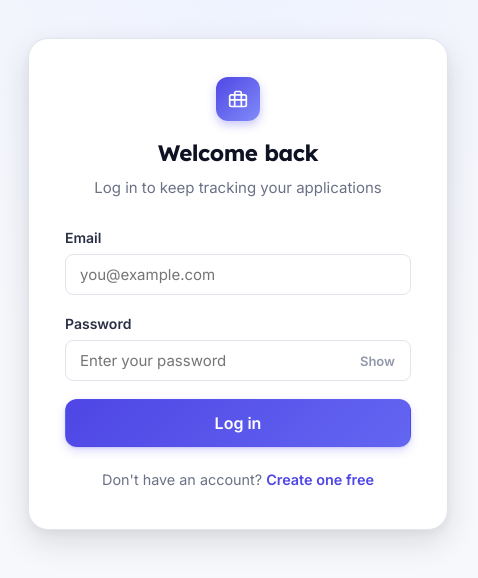
Test: Login form validation › shows an error for an invalid email format
Step 1. Type "not-an-email" into the field labelled "Email" → x=238, y=275, box [65,254,411,295]
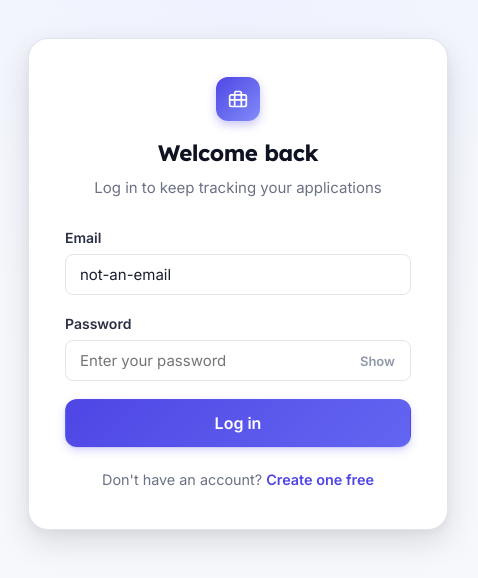
Step 2. Type "somepassword" into the password field labelled "Password" → x=238, y=361, box [65,340,411,381]
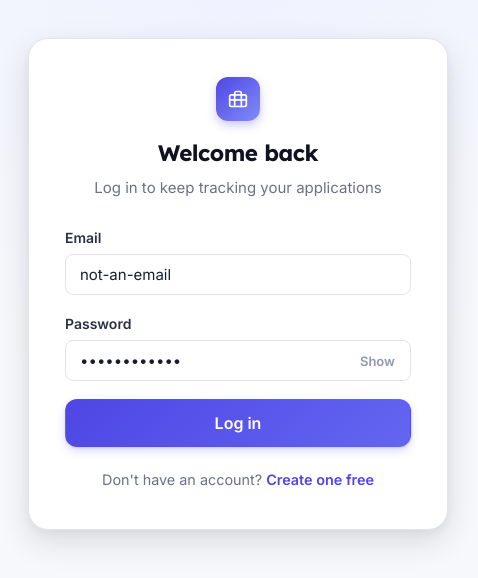
Step 3. Click the button "Log in" → x=238, y=423, box [65,399,411,447]
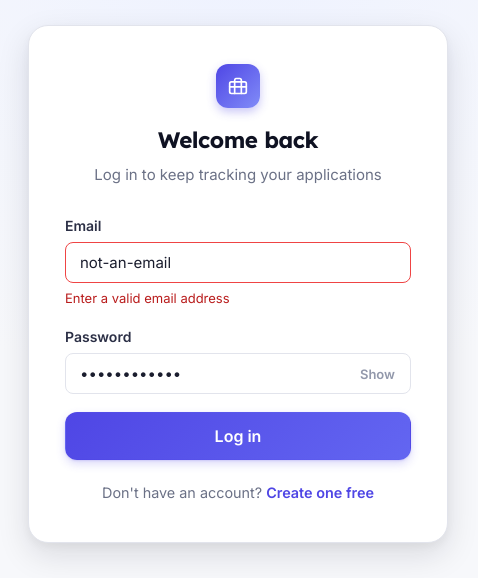
Now the text "Enter a valid email address" is shown, box [65,290,230,306]
